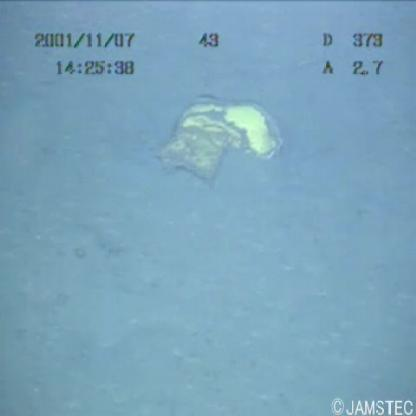Rác: (144, 78, 290, 184)
